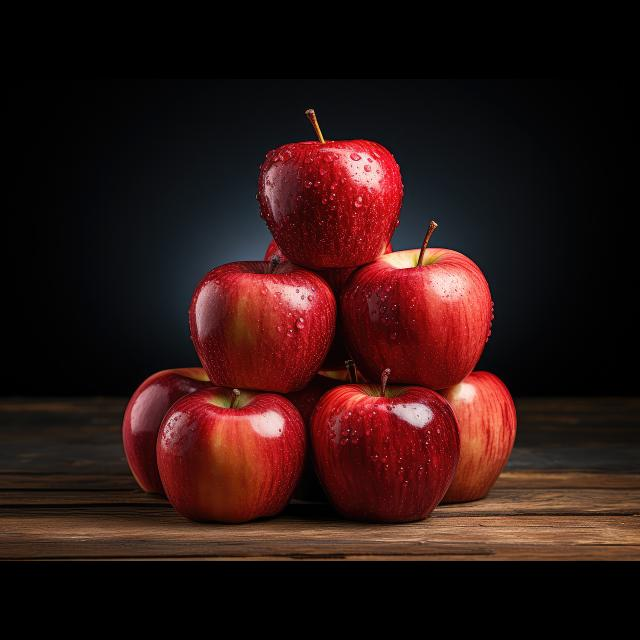Apel Segar: (176, 248, 344, 398), (307, 372, 465, 530), (341, 238, 503, 388), (248, 128, 408, 274), (151, 380, 305, 522)
